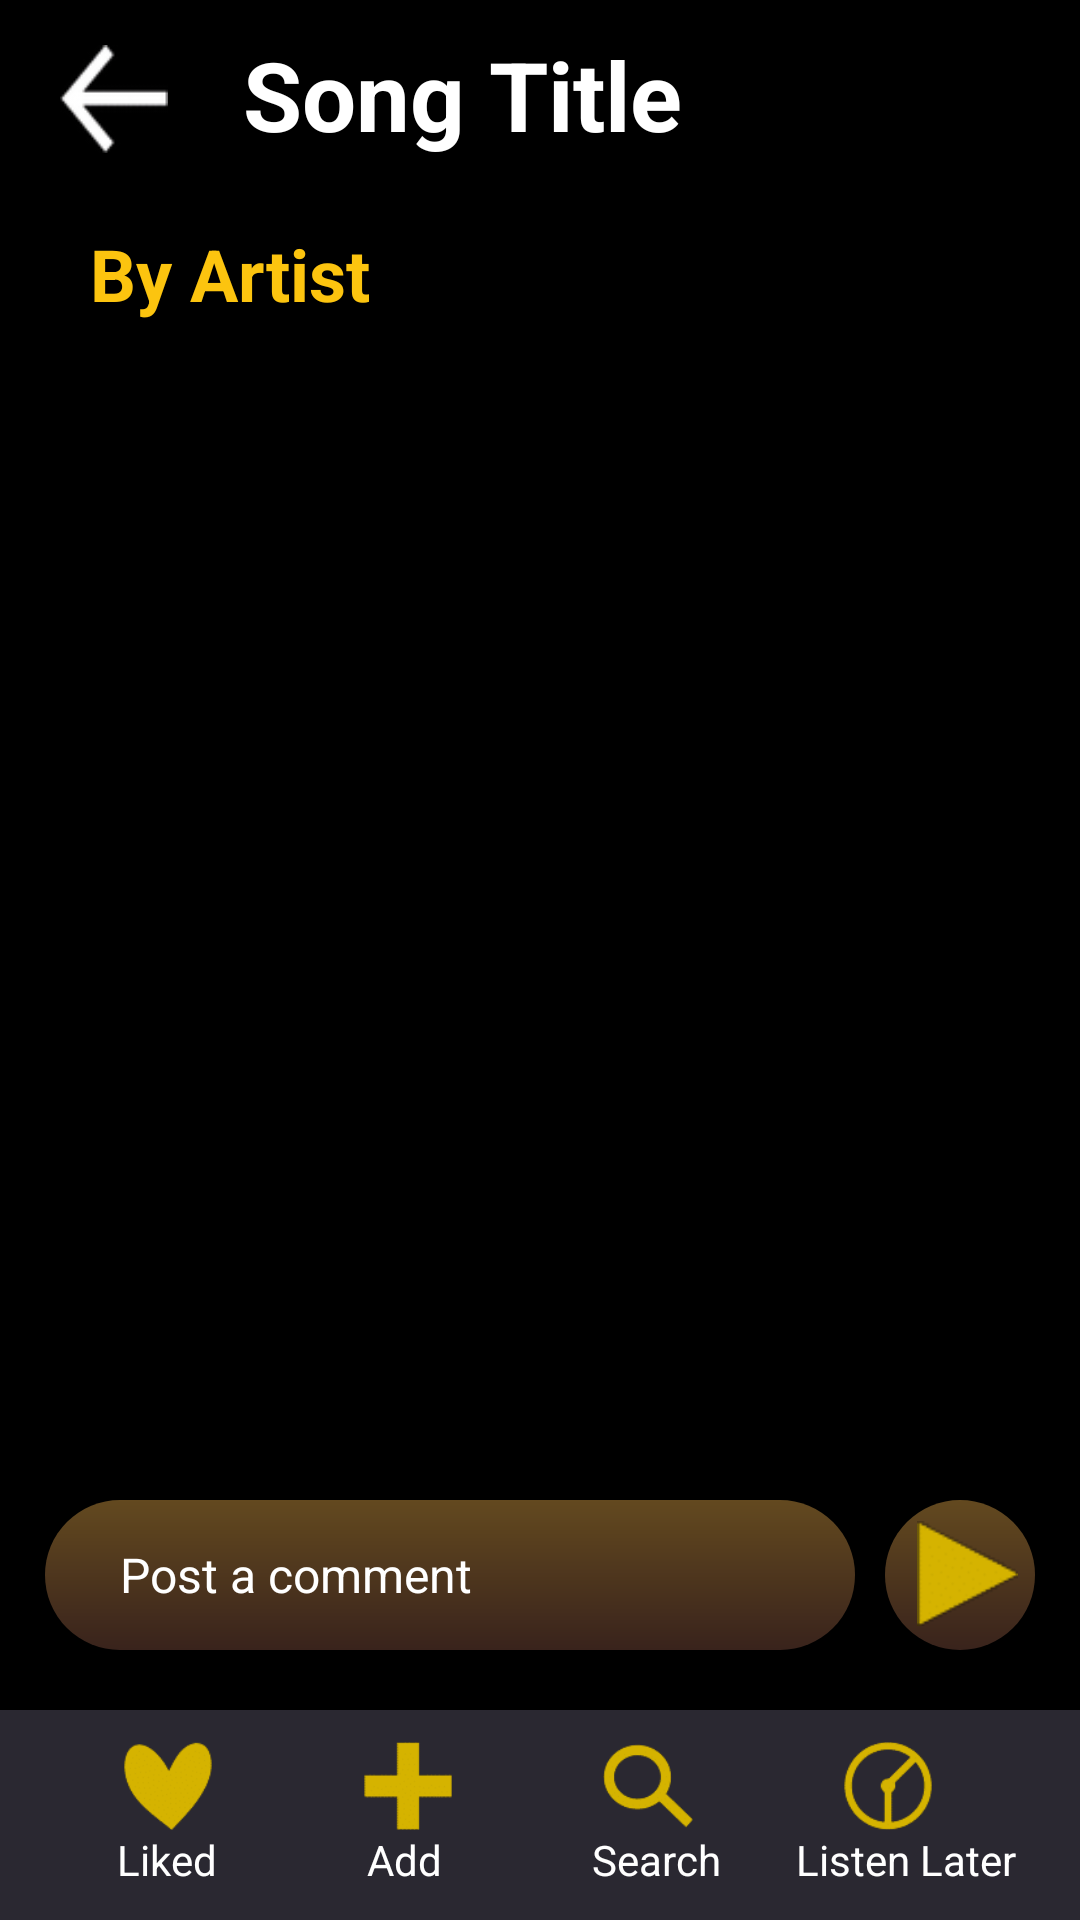

Locate icon controls on the screen. Image size 1080px x 1920px, boxes as (x1, y1, x2, y2).
backarrow page: (60, 45, 168, 153)
